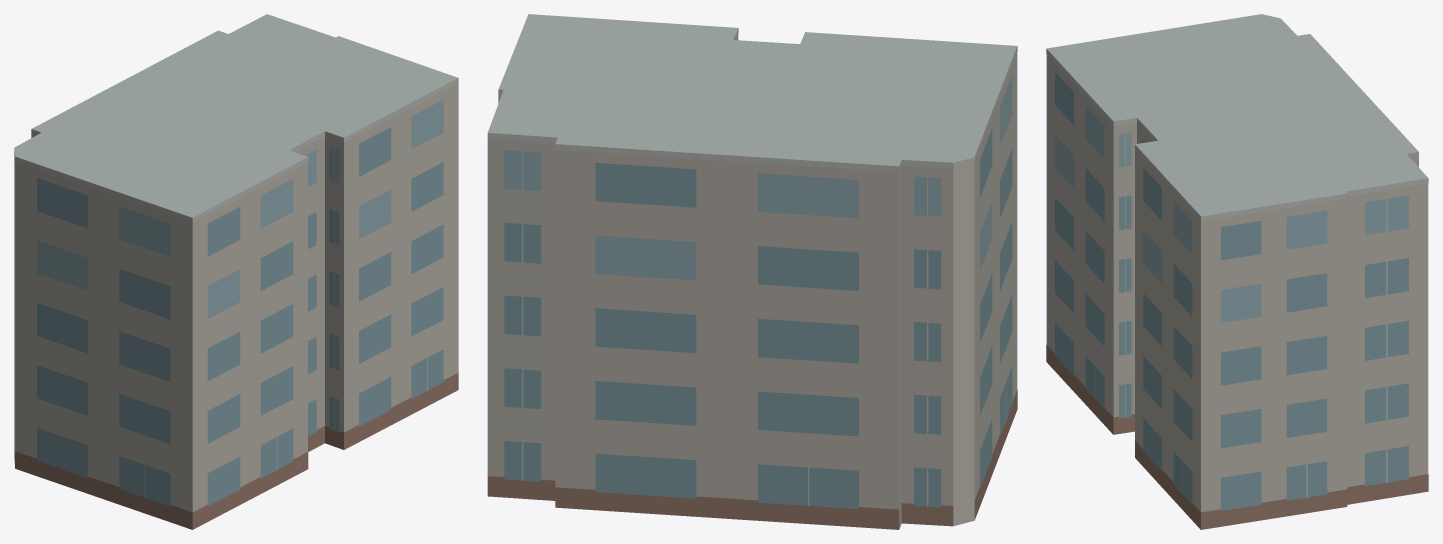
File: survey-upis-32977748.glb
3 renders of one model, left to right at view 1: azimuth 30°, elevation 25°; view 2: azimuth 150°, elevation 25°; view 3: azimuth 270°, elevation 25°, orthographic. The views are drawn at different scales.
Visible parts, largest first — view 1: survey-upis-32977748.tmp; view 2: survey-upis-32977748.tmp; view 3: survey-upis-32977748.tmp.
Boxes of the visible parts, left/top/right/bottom form: survey-upis-32977748.tmp: left=14, top=14, right=458, bottom=529; survey-upis-32977748.tmp: left=487, top=14, right=1017, bottom=529; survey-upis-32977748.tmp: left=1046, top=14, right=1428, bottom=529.
Bounding box in the file's own units: 21.14 × 15.25 × 16.85.
